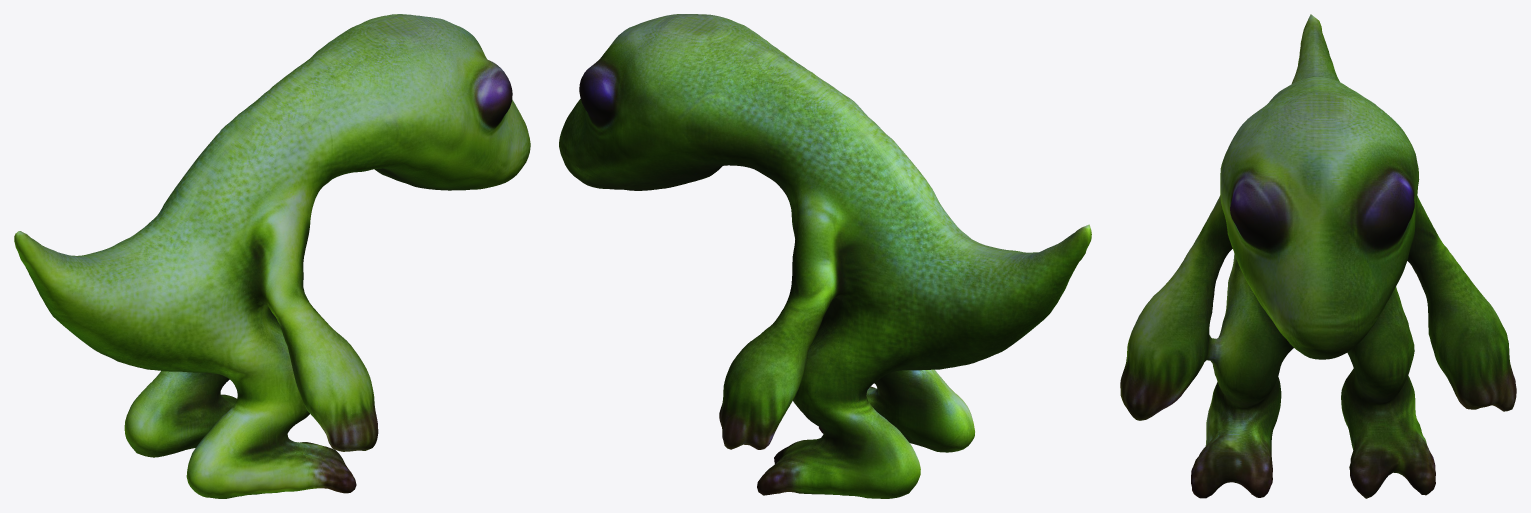
The model's file is alien_green_animal.glb.
3 renders of one model, left to right at view 1: azimuth 30°, elevation 25°; view 2: azimuth 150°, elevation 25°; view 3: azimuth 270°, elevation 25°, orthographic. The views are drawn at different scales.
Parts seen in each view (by area): view 1: Mesh1; view 2: Mesh1; view 3: Mesh1.
Boxes of the visible parts, box(x1,y1,x2,y2) form: Mesh1: box(14, 14, 530, 498); Mesh1: box(559, 14, 1091, 498); Mesh1: box(1120, 14, 1516, 498).
Size of the model in its own units: 1.2 by 0.8973 by 0.7115.
1 material, 1 textured.
